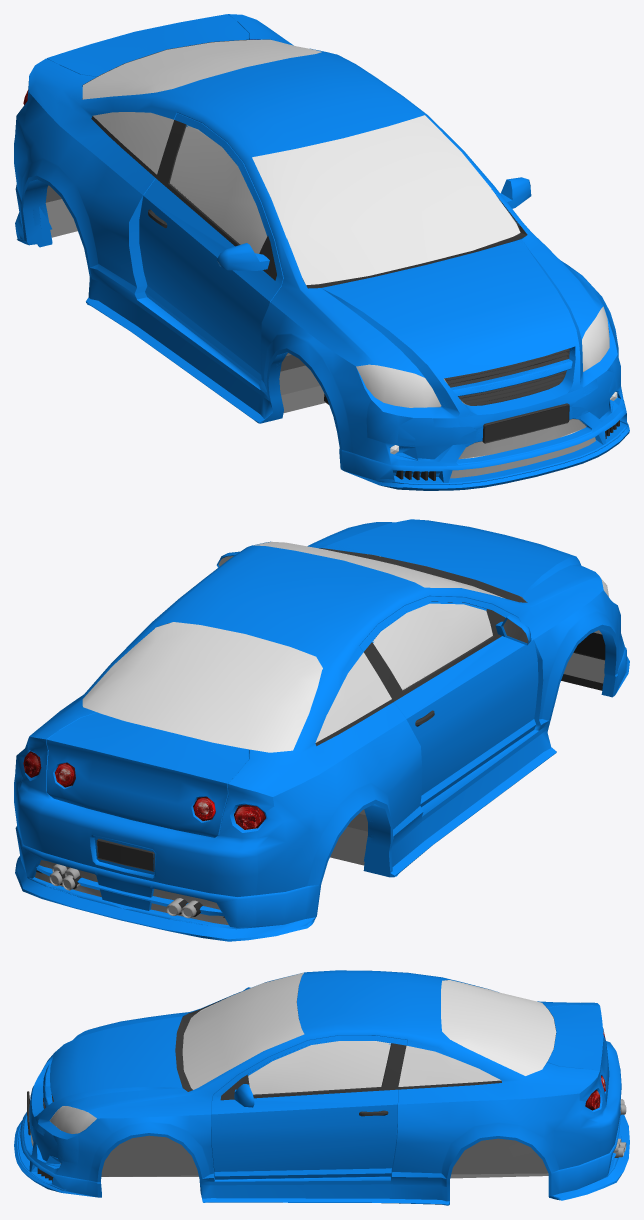
The model's file is Intruder.fbx.
3 views of the same model, one above another, from view 1: azimuth 30°, elevation 25°; view 2: azimuth 150°, elevation 25°; view 3: azimuth 270°, elevation 25° (orthographic). The views are drawn at different scales.
Parts seen in each view (by area): view 1: kit02_body, window, kit04_body, body, kit01_body, static_objects, kit03_body, lights_glass, kit04_objects, kit01_objects; view 2: kit02_body, kit04_body, window, body, kit01_body, static_objects, kit02_objects, kit03_body, rear_lights, standart_objects, kit04_objects; view 3: kit02_body, kit04_body, window, body, kit01_body, kit03_objects, static_objects, kit03_body, lights_glass, kit01_objects.
Boxes of the visible parts, box(x1,y1,x2,y2) form: kit02_body: box(27, 14, 620, 476); window: box(82, 39, 520, 285); kit04_body: box(14, 92, 629, 490); body: box(39, 14, 620, 473); kit01_body: box(30, 14, 620, 476); static_objects: box(82, 39, 569, 443); kit03_body: box(33, 51, 627, 484); lights_glass: box(356, 306, 609, 407); kit04_objects: box(324, 394, 619, 480); kit01_objects: box(45, 185, 328, 412); kit02_body: box(16, 519, 620, 929); kit04_body: box(14, 521, 629, 941); window: box(82, 541, 504, 752); body: box(16, 520, 620, 916); kit01_body: box(16, 520, 620, 928); static_objects: box(96, 548, 527, 871); kit02_objects: box(35, 562, 529, 925); kit03_body: box(31, 531, 627, 928); rear_lights: box(23, 751, 265, 829); standart_objects: box(52, 556, 604, 878); kit04_objects: box(36, 632, 605, 917); kit02_body: box(29, 970, 621, 1193); kit04_body: box(14, 979, 629, 1205); window: box(182, 972, 556, 1094); body: box(29, 997, 621, 1177); kit01_body: box(30, 971, 621, 1181); kit03_objects: box(101, 1107, 621, 1176); static_objects: box(27, 997, 556, 1135); kit03_body: box(17, 980, 620, 1191); lights_glass: box(50, 1106, 96, 1133); kit01_objects: box(109, 1173, 548, 1178).
Bounding box in the file's own units: 2.04 × 1.3 × 4.72.
10 materials, 2 textured.
